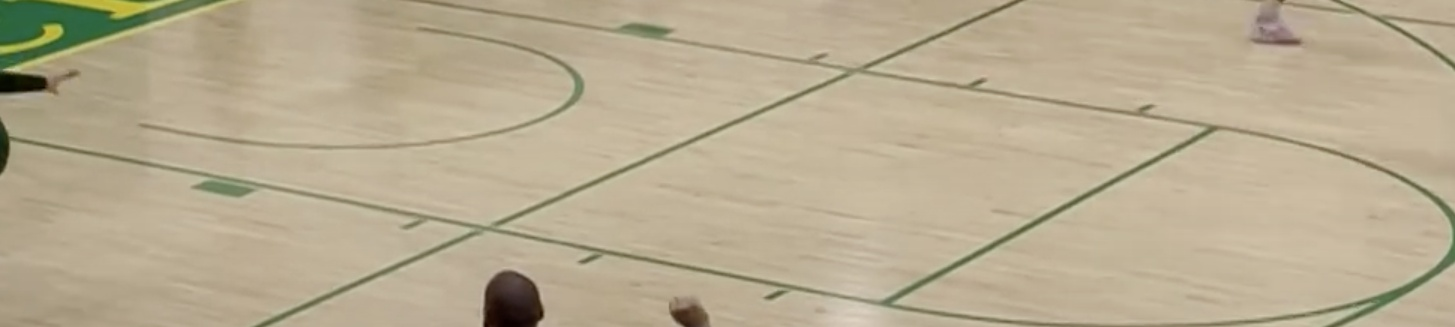endLine: (1, 1, 234, 74)
freeThrow: (886, 124, 1221, 303)
lane: (7, 136, 884, 304), (439, 3, 1218, 125)
